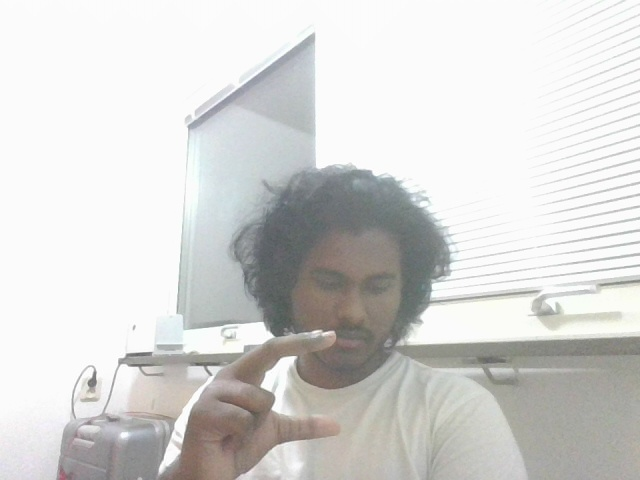no: (167, 325, 348, 470)
